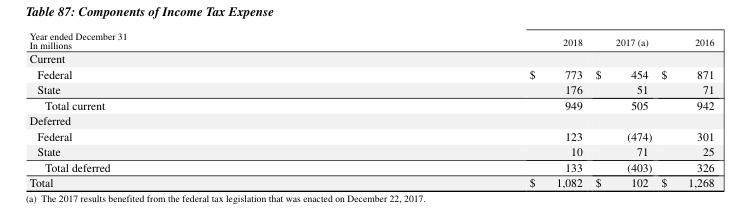table: (28, 28, 713, 189)
table column: (28, 28, 327, 189), (327, 28, 588, 189), (588, 28, 656, 189), (656, 28, 713, 189)
table column header: (28, 28, 713, 50)
table projected row header: (28, 111, 713, 127), (28, 50, 713, 65)
table row: (28, 28, 713, 50), (28, 80, 713, 96), (28, 111, 713, 127), (28, 142, 713, 158), (28, 173, 713, 189), (28, 50, 713, 65), (28, 65, 713, 80), (28, 96, 713, 111), (28, 127, 713, 142), (28, 158, 713, 173)
